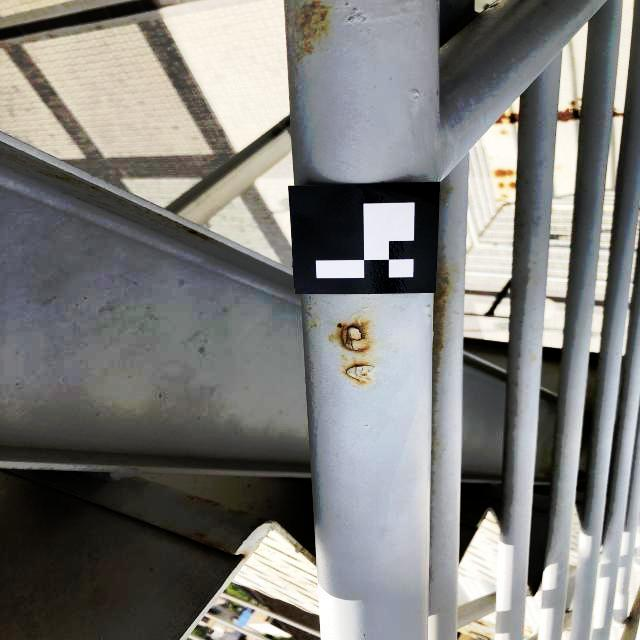Corrosion: (432, 262, 454, 361), (300, 3, 333, 51), (335, 317, 371, 355), (346, 363, 374, 384), (557, 108, 580, 123), (495, 114, 518, 126), (188, 228, 206, 238), (494, 170, 513, 178), (474, 620, 488, 626), (508, 182, 515, 189), (497, 183, 505, 189), (500, 130, 508, 136), (569, 101, 575, 106), (500, 195, 508, 198)
